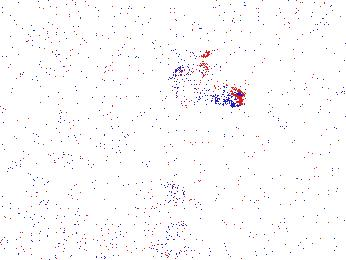flame jellyfish: (166, 61, 246, 112), (1, 168, 54, 219), (146, 166, 195, 211)
